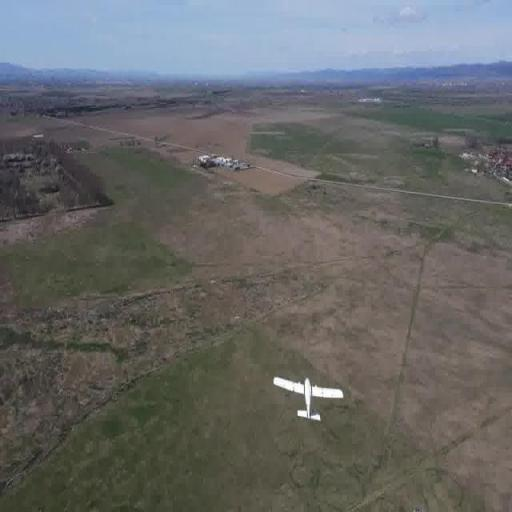uav: (270, 369, 346, 425)
